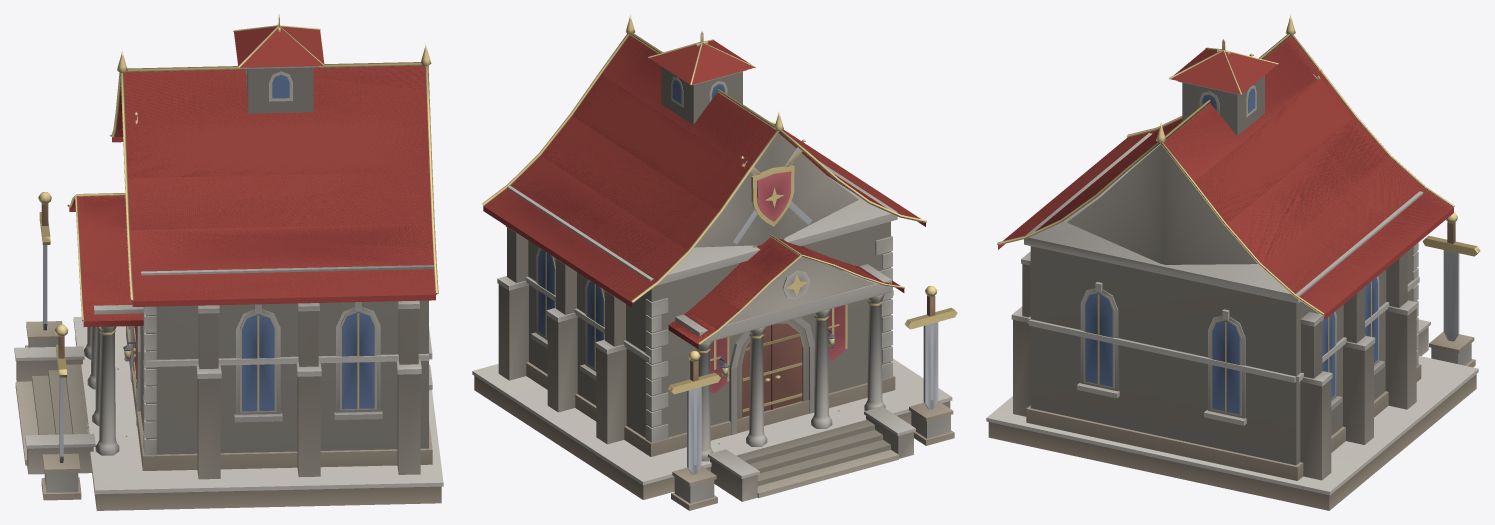
Rendered from sword_lite.glb.
The picture shows the model from 3 angles, left to right: view 1: azimuth 30°, elevation 25°; view 2: azimuth 150°, elevation 25°; view 3: azimuth 270°, elevation 25°; orthographic projection. The views are drawn at different scales.
Visible parts, largest first — view 1: Sword_stone, Sword_roof, Sword_props; view 2: Sword_stone, Sword_roof, Sword_props; view 3: Sword_stone, Sword_roof, Sword_props.
Part boxes in pixels (bbox=[...]): Sword_stone: bbox=[14, 66, 443, 510]; Sword_roof: bbox=[69, 26, 435, 326]; Sword_props: bbox=[38, 14, 438, 462]; Sword_stone: bbox=[472, 66, 954, 510]; Sword_roof: bbox=[483, 35, 925, 349]; Sword_props: bbox=[482, 14, 957, 474]; Sword_stone: bbox=[986, 75, 1478, 510]; Sword_roof: bbox=[998, 36, 1453, 319]; Sword_props: bbox=[997, 15, 1480, 414].
Bounding box in the file's own units: 15.31 × 12.99 × 15.25.
